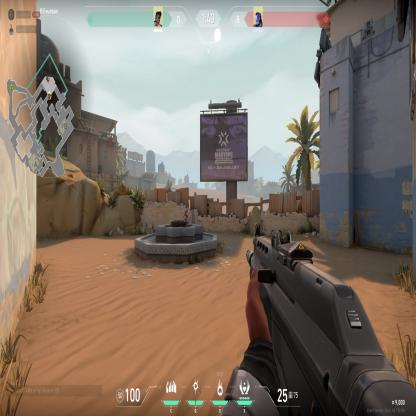enemy: (183, 205, 190, 220)
